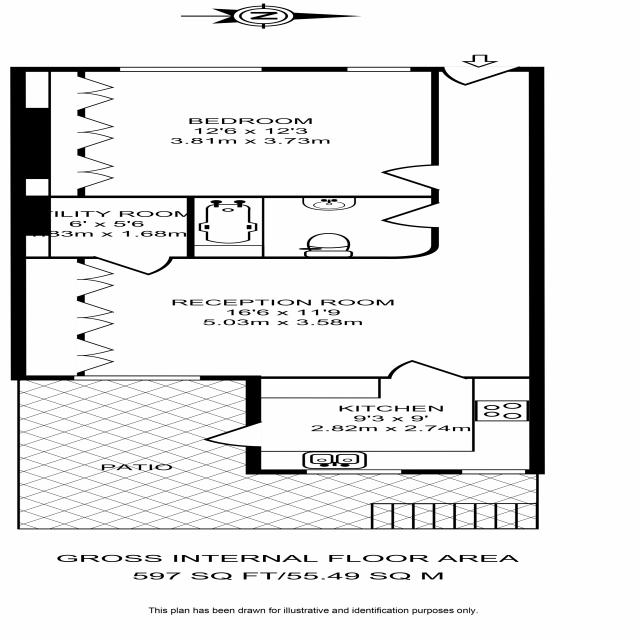DOOR: (193, 419, 267, 449), (372, 199, 441, 231), (90, 255, 185, 278), (377, 162, 446, 193), (434, 67, 528, 87), (385, 358, 472, 379)
ROOM: (10, 67, 439, 198), (195, 356, 545, 474)
WINDOW: (17, 70, 57, 110), (115, 65, 267, 73), (70, 374, 203, 382), (19, 234, 57, 258), (304, 468, 407, 476), (19, 177, 57, 198), (343, 66, 414, 73), (458, 468, 527, 475)
